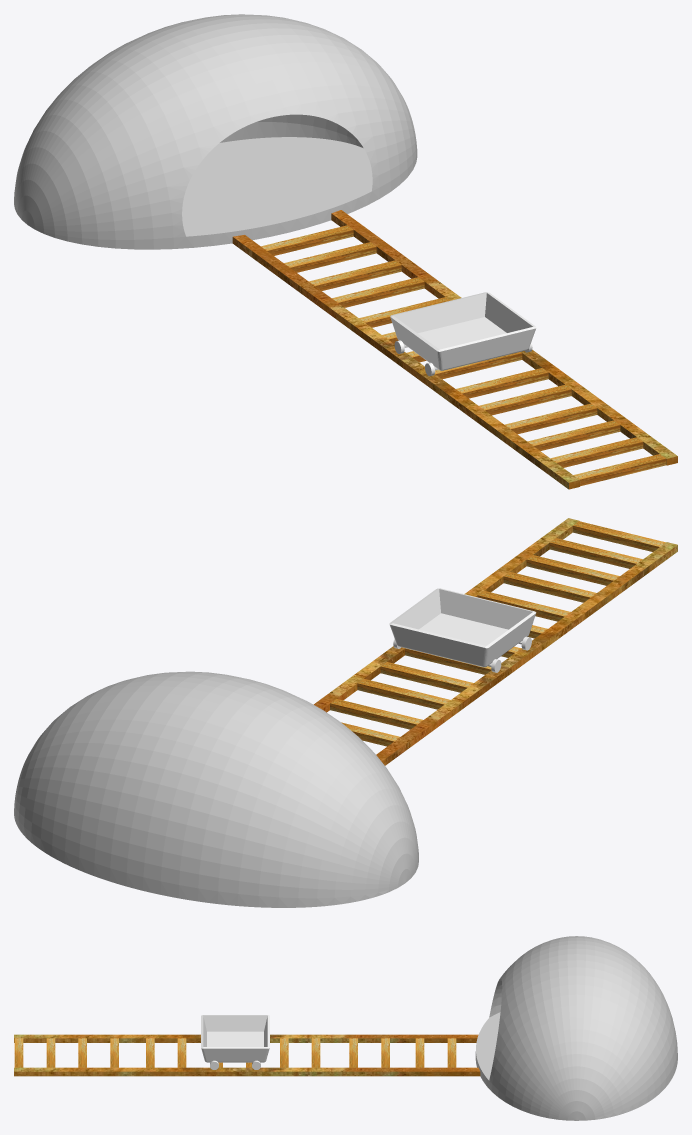
The model's file is fornacematerials.fbx.
The picture shows the model from 3 angles, top to bottom: view 1: azimuth 30°, elevation 25°; view 2: azimuth 150°, elevation 25°; view 3: azimuth 270°, elevation 25°; orthographic projection. The views are drawn at different scales.
Parts seen in each view (by area): view 1: Oggetto_25, Oggetto_5, Oggetto_9, Oggetto_10, Oggetto_12, Oggetto_13, Oggetto_16, Oggetto_11, Oggetto_14, Oggetto_15, Oggetto_22, Oggetto_23 (+3 smaller); view 2: Oggetto_25, Oggetto_5, Oggetto_9, Oggetto_10, Oggetto_12, Oggetto_19, Oggetto_13, Oggetto_14, Oggetto_20, Oggetto_11, Oggetto_22, Oggetto_16 (+2 smaller); view 3: Oggetto_25, Oggetto_10, Oggetto_5, Oggetto_9, Oggetto_11, Oggetto_12, Oggetto_15, Oggetto_19, Oggetto_23, Oggetto_24.
Part boxes in pixels (x1,y1,x2,y2): Oggetto_25: (14, 14, 417, 249); Oggetto_5: (390, 292, 536, 370); Oggetto_9: (232, 235, 579, 489); Oggetto_10: (331, 210, 677, 465); Oggetto_12: (573, 454, 666, 486); Oggetto_13: (505, 403, 597, 434); Oggetto_16: (479, 384, 571, 415); Oggetto_11: (550, 437, 643, 467); Oggetto_14: (527, 420, 620, 450); Oggetto_15: (456, 368, 548, 398); Oggetto_22: (332, 277, 424, 307); Oggetto_23: (284, 242, 376, 272); Oggetto_25: (14, 671, 418, 907); Oggetto_5: (389, 588, 536, 667); Oggetto_9: (376, 542, 677, 765); Oggetto_10: (313, 518, 579, 712); Oggetto_12: (572, 521, 665, 551); Oggetto_19: (357, 679, 450, 709); Oggetto_13: (503, 572, 596, 602); Oggetto_14: (526, 555, 619, 585); Oggetto_20: (380, 662, 473, 692); Oggetto_11: (549, 538, 642, 568); Oggetto_22: (330, 698, 422, 729); Oggetto_16: (477, 591, 570, 621); Oggetto_25: (475, 936, 677, 1120); Oggetto_10: (14, 1067, 480, 1076); Oggetto_5: (201, 1015, 269, 1062); Oggetto_9: (14, 1034, 478, 1042); Oggetto_11: (46, 1038, 55, 1067); Oggetto_12: (14, 1038, 23, 1067); Oggetto_15: (177, 1038, 186, 1067); Oggetto_19: (311, 1038, 320, 1067); Oggetto_23: (415, 1038, 424, 1067); Oggetto_24: (447, 1038, 456, 1067).
Size of the model in its own units: 500 by 190 by 1104.
Materials: 22 (16 with a texture image).
